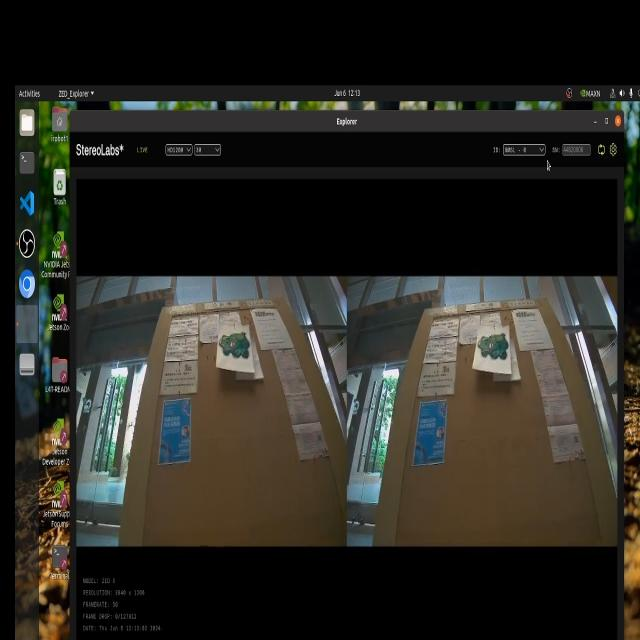green: (218, 324, 252, 364), (481, 326, 508, 364)
